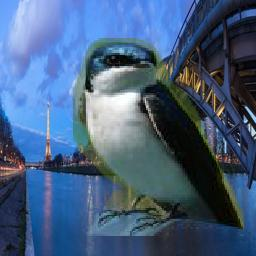Swallow: (74, 38, 245, 236)
